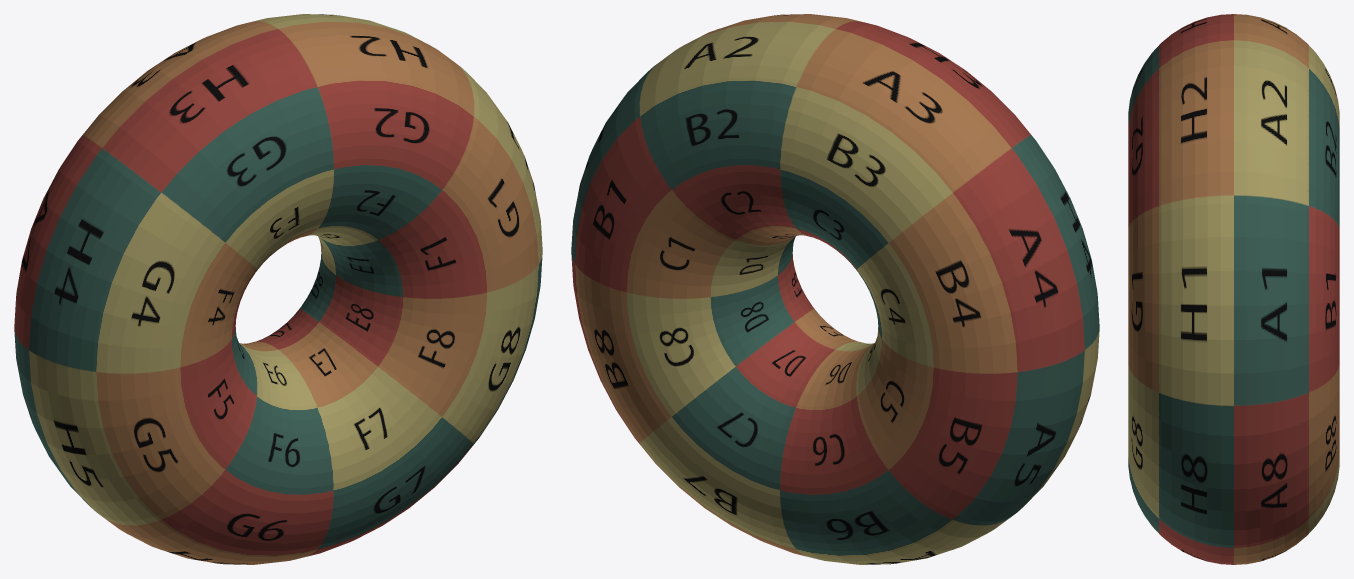
The model's file is texture_torus_R9_r30.glb.
The picture shows the model from 3 angles, left to right: view 1: azimuth 30°, elevation 25°; view 2: azimuth 150°, elevation 25°; view 3: azimuth 270°, elevation 25°; orthographic projection. The views are drawn at different scales.
Parts seen in each view (by area): view 1: world; view 2: world; view 3: world.
Boxes of the visible parts, left/top/right/bottom form: world: left=14, top=14, right=542, bottom=564; world: left=571, top=14, right=1099, bottom=564; world: left=1128, top=14, right=1339, bottom=564.
Bounding box in the file's own units: 26 × 25.95 × 9.98.
Materials: 1 (1 with a texture image).
